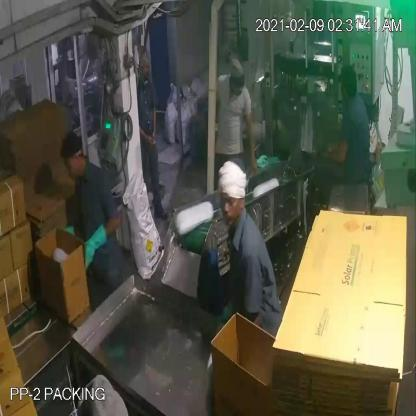glove: (74, 204, 111, 274)
no_glove: (315, 122, 355, 170), (240, 101, 260, 182), (130, 104, 156, 155)
